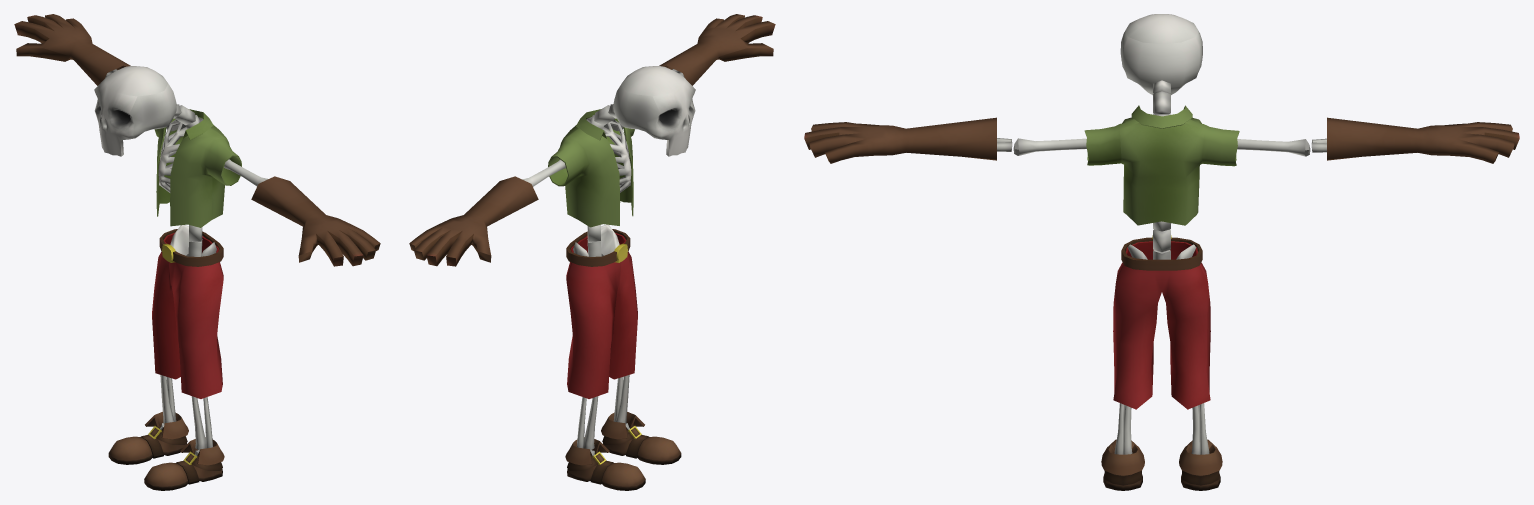
File: Skeleton_Dude_Mesh.FBX
3 views of the same model, side by side, from view 1: azimuth 30°, elevation 25°; view 2: azimuth 150°, elevation 25°; view 3: azimuth 270°, elevation 25° (orthographic). The views are drawn at different scales.
Visible parts, largest first — view 1: Skeleton, pants, glove, Shirt, shoes, Belt; view 2: Skeleton, pants, glove, Shirt, shoes, Belt; view 3: glove, pants, Shirt, Skeleton, shoes, Belt.
Part boxes in pixels (<box>): Skeleton: <box>94,66,268,455</box>; pants: <box>152,233,223,398</box>; glove: <box>14,14,380,266</box>; Shirt: <box>154,109,241,227</box>; shoes: <box>108,411,224,490</box>; Belt: <box>159,229,223,266</box>; Skeleton: <box>522,66,695,455</box>; pants: <box>566,233,637,398</box>; glove: <box>409,14,775,266</box>; Shirt: <box>548,109,634,227</box>; shoes: <box>565,411,681,490</box>; Belt: <box>566,229,630,266</box>; glove: <box>804,117,1519,163</box>; pants: <box>1113,241,1210,409</box>; Shirt: <box>1084,105,1239,225</box>; Skeleton: <box>997,14,1326,454</box>; shoes: <box>1101,439,1222,490</box>; Belt: <box>1121,235,1202,270</box>.
Size of the model in its own units: 32.99 by 100 by 149.
1 material, 1 textured.
